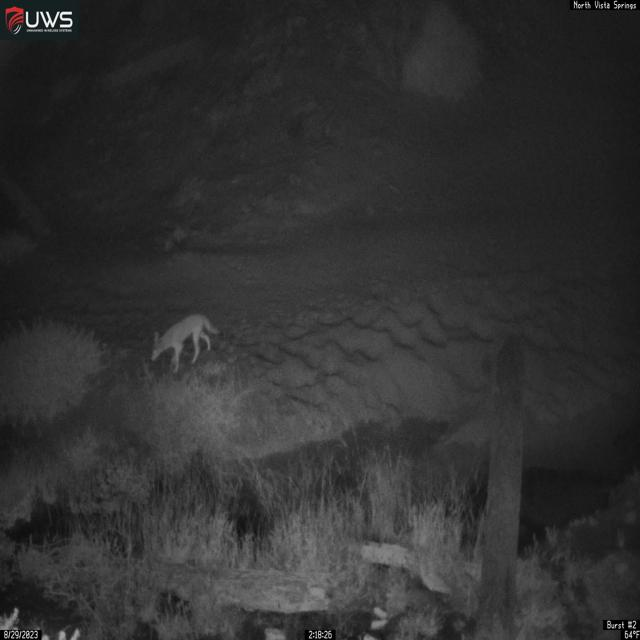coyote: (150, 313, 222, 374)
